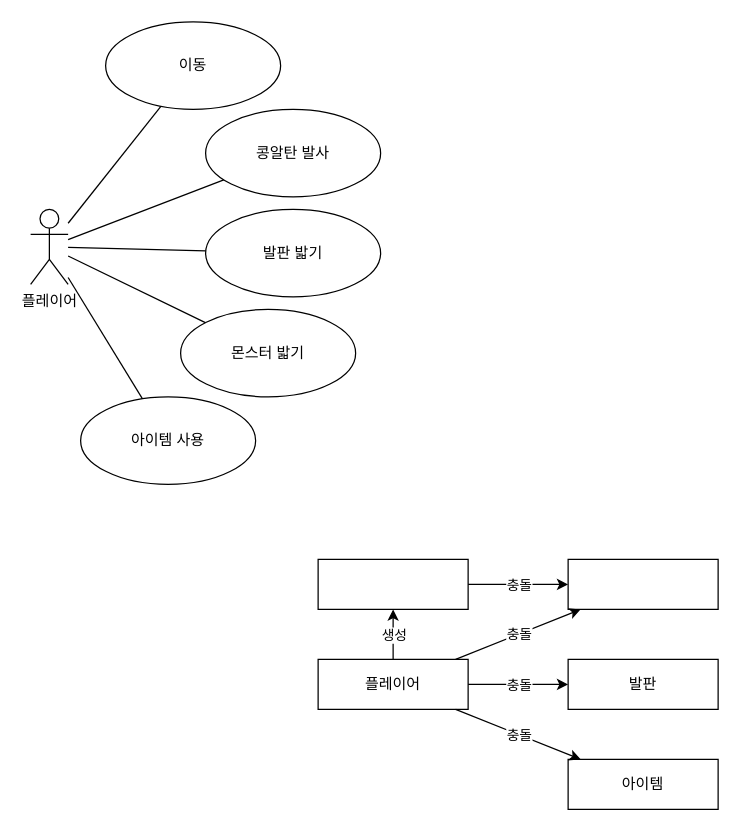
Some shapes in this 740 by 831 pixel diagram are drawn without their labels. Each missing label, with the centre of its shape:
"몬스터" goes at point 642,583.
"콩알탄" goes at point 392,583.
